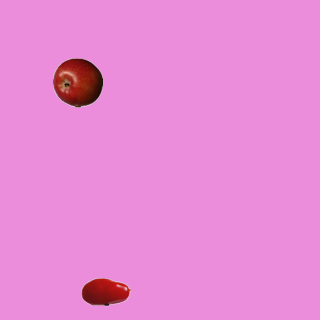Apple Braeburn: (52, 57, 102, 107)
Tomato 2: (80, 266, 130, 316)
